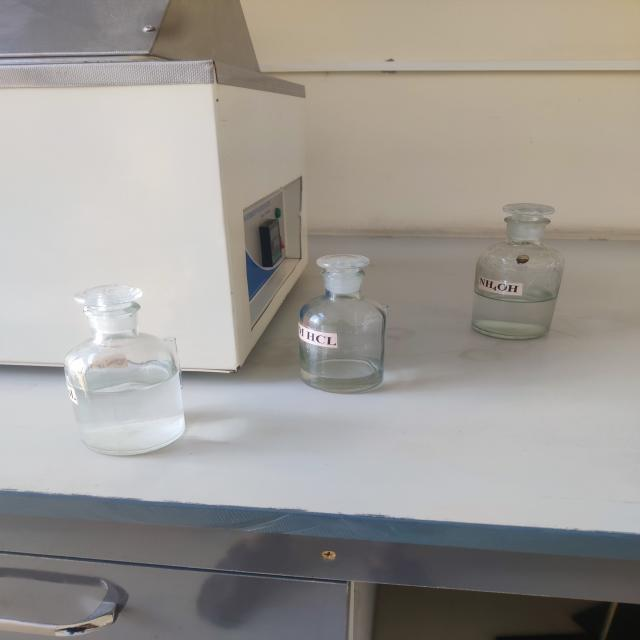Reagent_Bottle: (30, 266, 219, 469), (442, 162, 596, 362), (259, 237, 430, 417)
